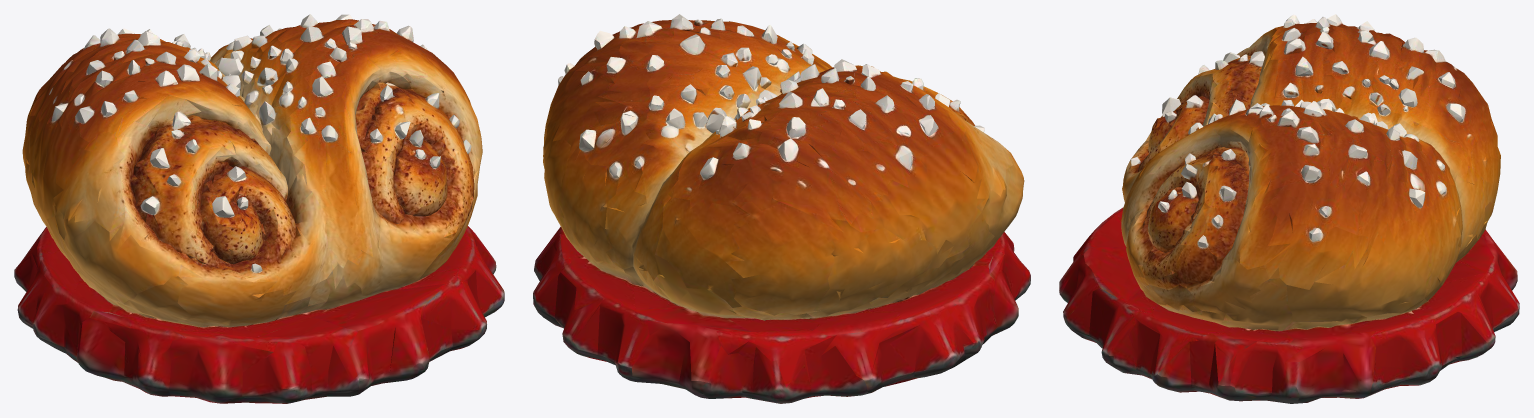
The model's file is props_pulla.glb.
3 renders of one model, left to right at view 1: azimuth 30°, elevation 25°; view 2: azimuth 150°, elevation 25°; view 3: azimuth 270°, elevation 25°, orthographic. The views are drawn at different scales.
Visible parts, largest first — view 1: output_unwrapped; view 2: output_unwrapped; view 3: output_unwrapped.
Boxes of the visible parts, box(x1,y1,x2,y2) form: output_unwrapped: box(14, 14, 504, 403); output_unwrapped: box(533, 14, 1030, 403); output_unwrapped: box(1059, 14, 1519, 403).
Size of the model in its own units: 0.1097 by 0.0669 by 0.11.
1 material, 1 textured.
